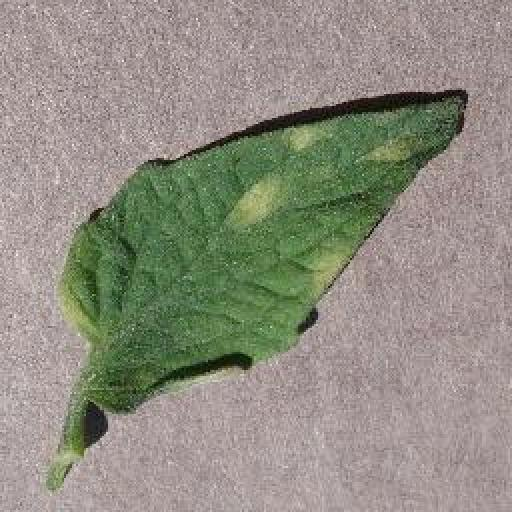disease_tomato: (60, 94, 466, 418)
